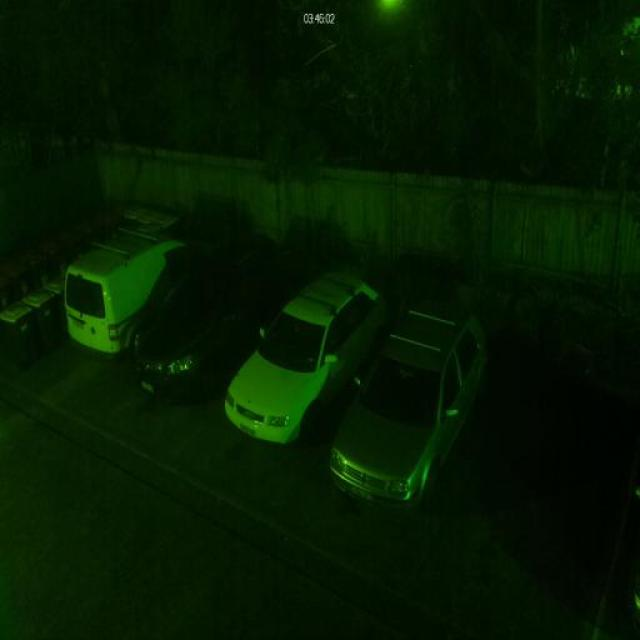Legalparking: (31, 159, 609, 550)
